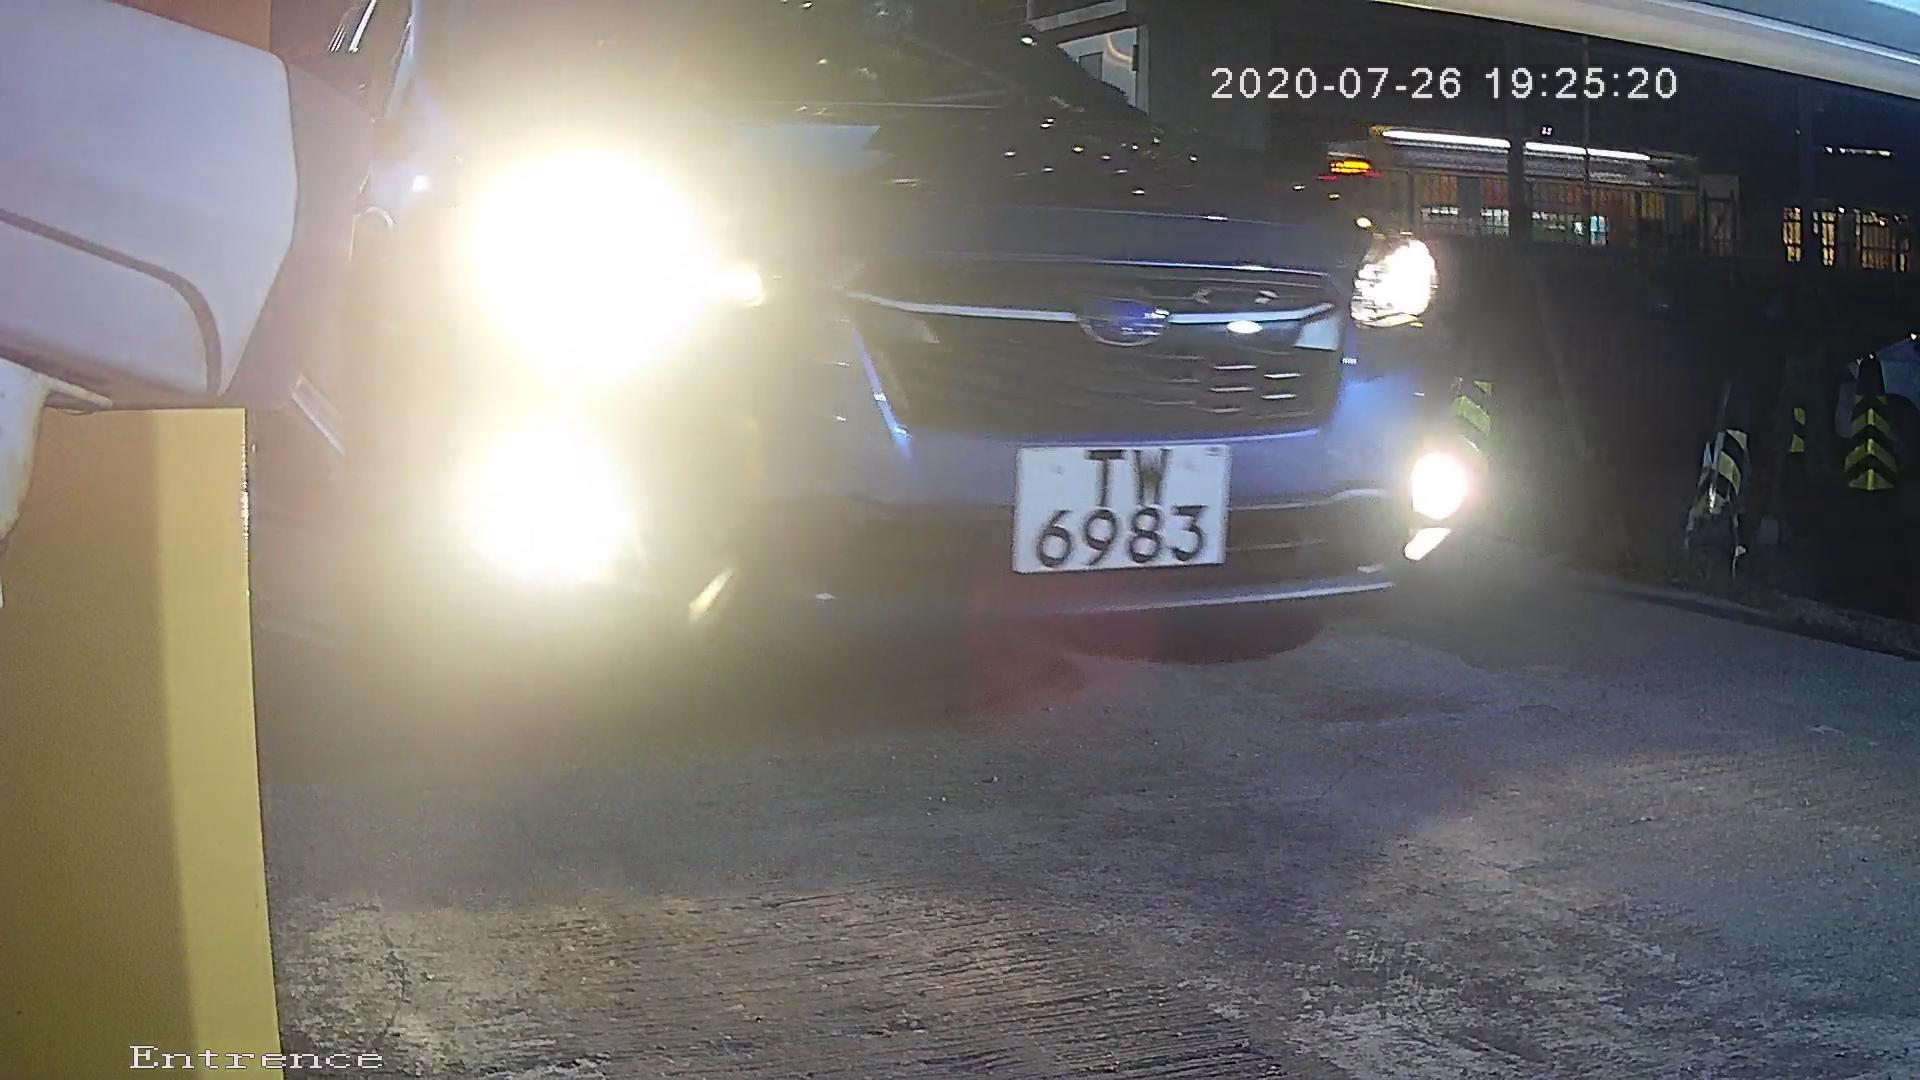License Plate: (986, 420, 1243, 594)
